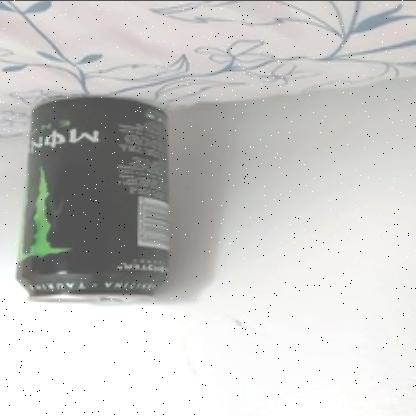Can: (16, 94, 174, 302)
